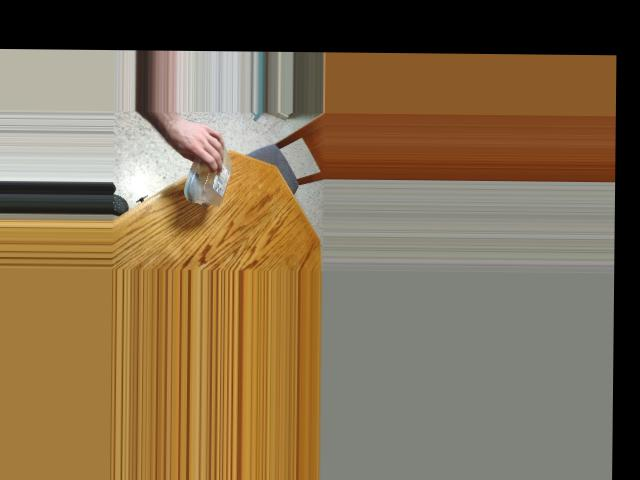cheese: (182, 133, 230, 186)
